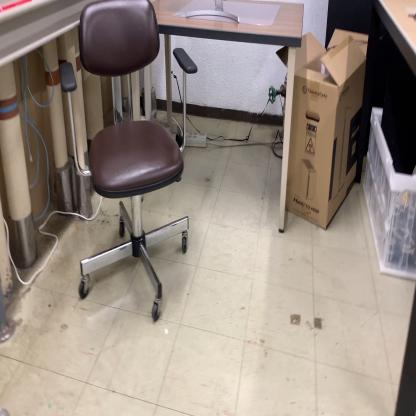chair: (59, 1, 200, 322)
